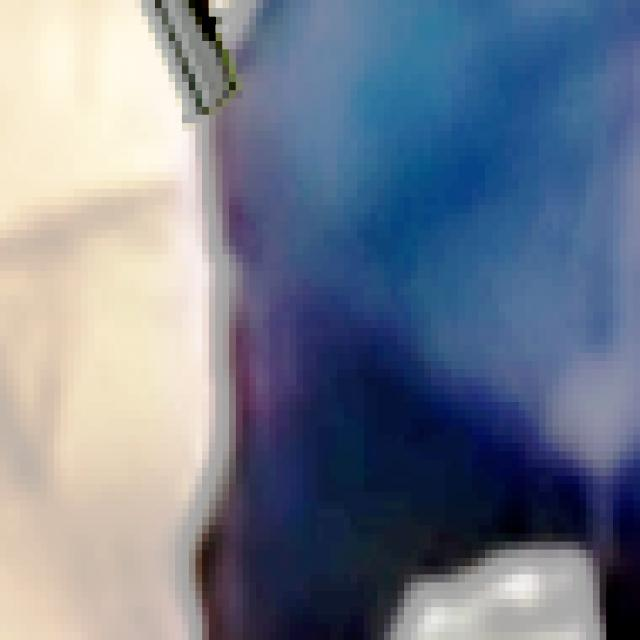arms: (81, 0, 276, 222)
